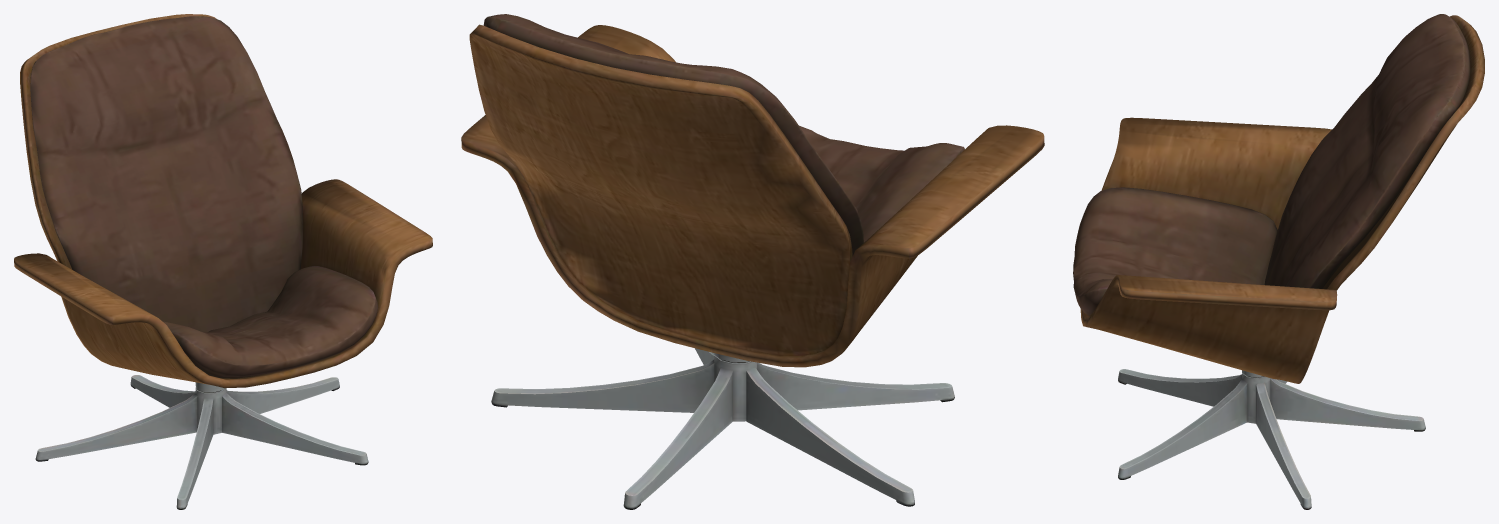
File: ph-mid-century-lounge-chair.glb
3 views of the same model, side by side, from view 1: azimuth 30°, elevation 25°; view 2: azimuth 150°, elevation 25°; view 3: azimuth 270°, elevation 25° (orthographic). The views are drawn at different scales.
Visible parts, largest first — view 1: mid_century_lounge_chair; view 2: mid_century_lounge_chair; view 3: mid_century_lounge_chair.
Boxes of the visible parts, left/top/right/bottom form: mid_century_lounge_chair: left=14, top=14, right=432, bottom=509; mid_century_lounge_chair: left=461, top=14, right=1044, bottom=509; mid_century_lounge_chair: left=1073, top=14, right=1484, bottom=509.
Bounding box in the file's own units: 1 × 1 × 1.
1 material, 1 textured.
